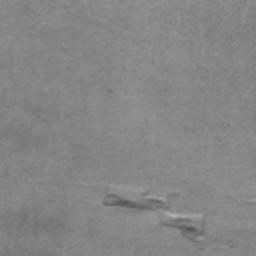Finishing roll printing: (103, 185, 205, 243)
